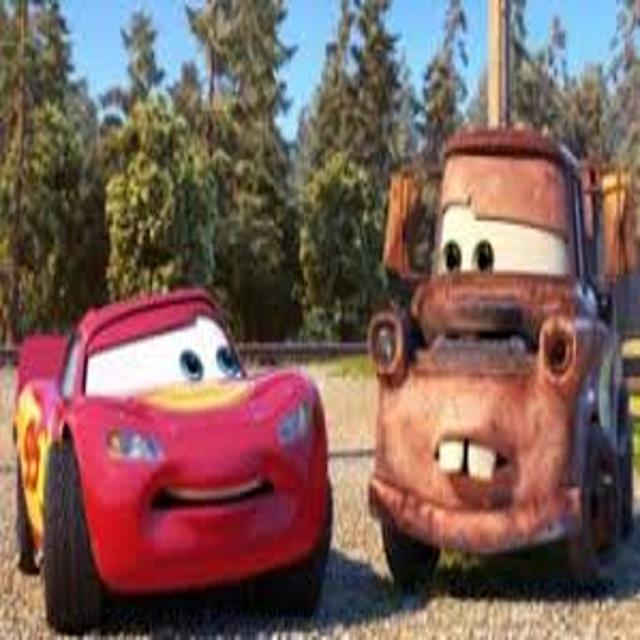car: (368, 128, 633, 587), (14, 290, 331, 633)
